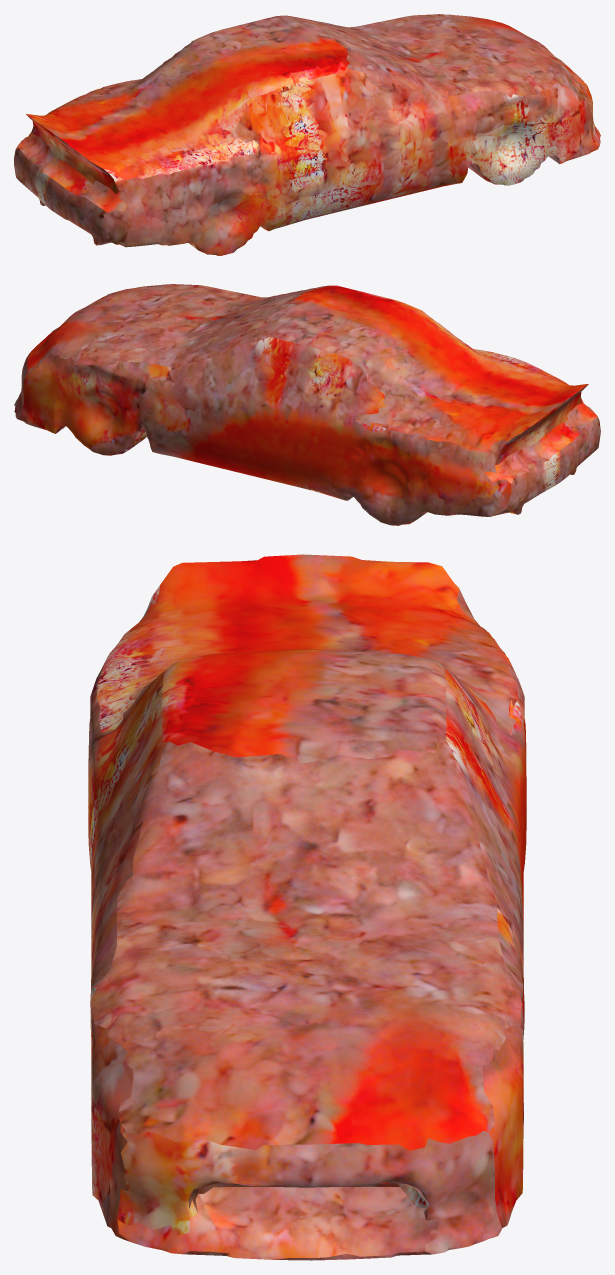
3 views of the same model, one above another, from view 1: azimuth 30°, elevation 25°; view 2: azimuth 150°, elevation 25°; view 3: azimuth 270°, elevation 25° (orthographic). The views are drawn at different scales.
Parts seen in each view (by area): view 1: mesh_normalized; view 2: mesh_normalized; view 3: mesh_normalized.
Boxes of the visible parts, bbox=[...] form: mesh_normalized: bbox=[14, 14, 600, 255]; mesh_normalized: bbox=[14, 284, 600, 525]; mesh_normalized: bbox=[88, 554, 526, 1260].
Size of the model in its own units: 0.7548 by 0.2035 by 0.2738.
1 material, 1 textured.
